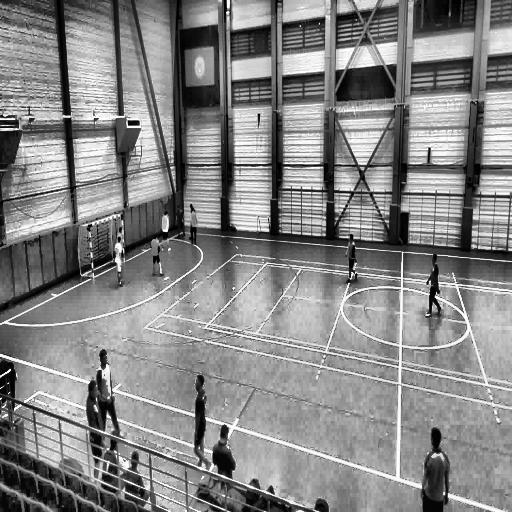player: (420, 428, 449, 510), (96, 351, 121, 435), (192, 375, 208, 471), (424, 254, 440, 318), (346, 234, 358, 284), (151, 234, 163, 277), (114, 235, 124, 286), (161, 211, 170, 252), (190, 204, 198, 245)
